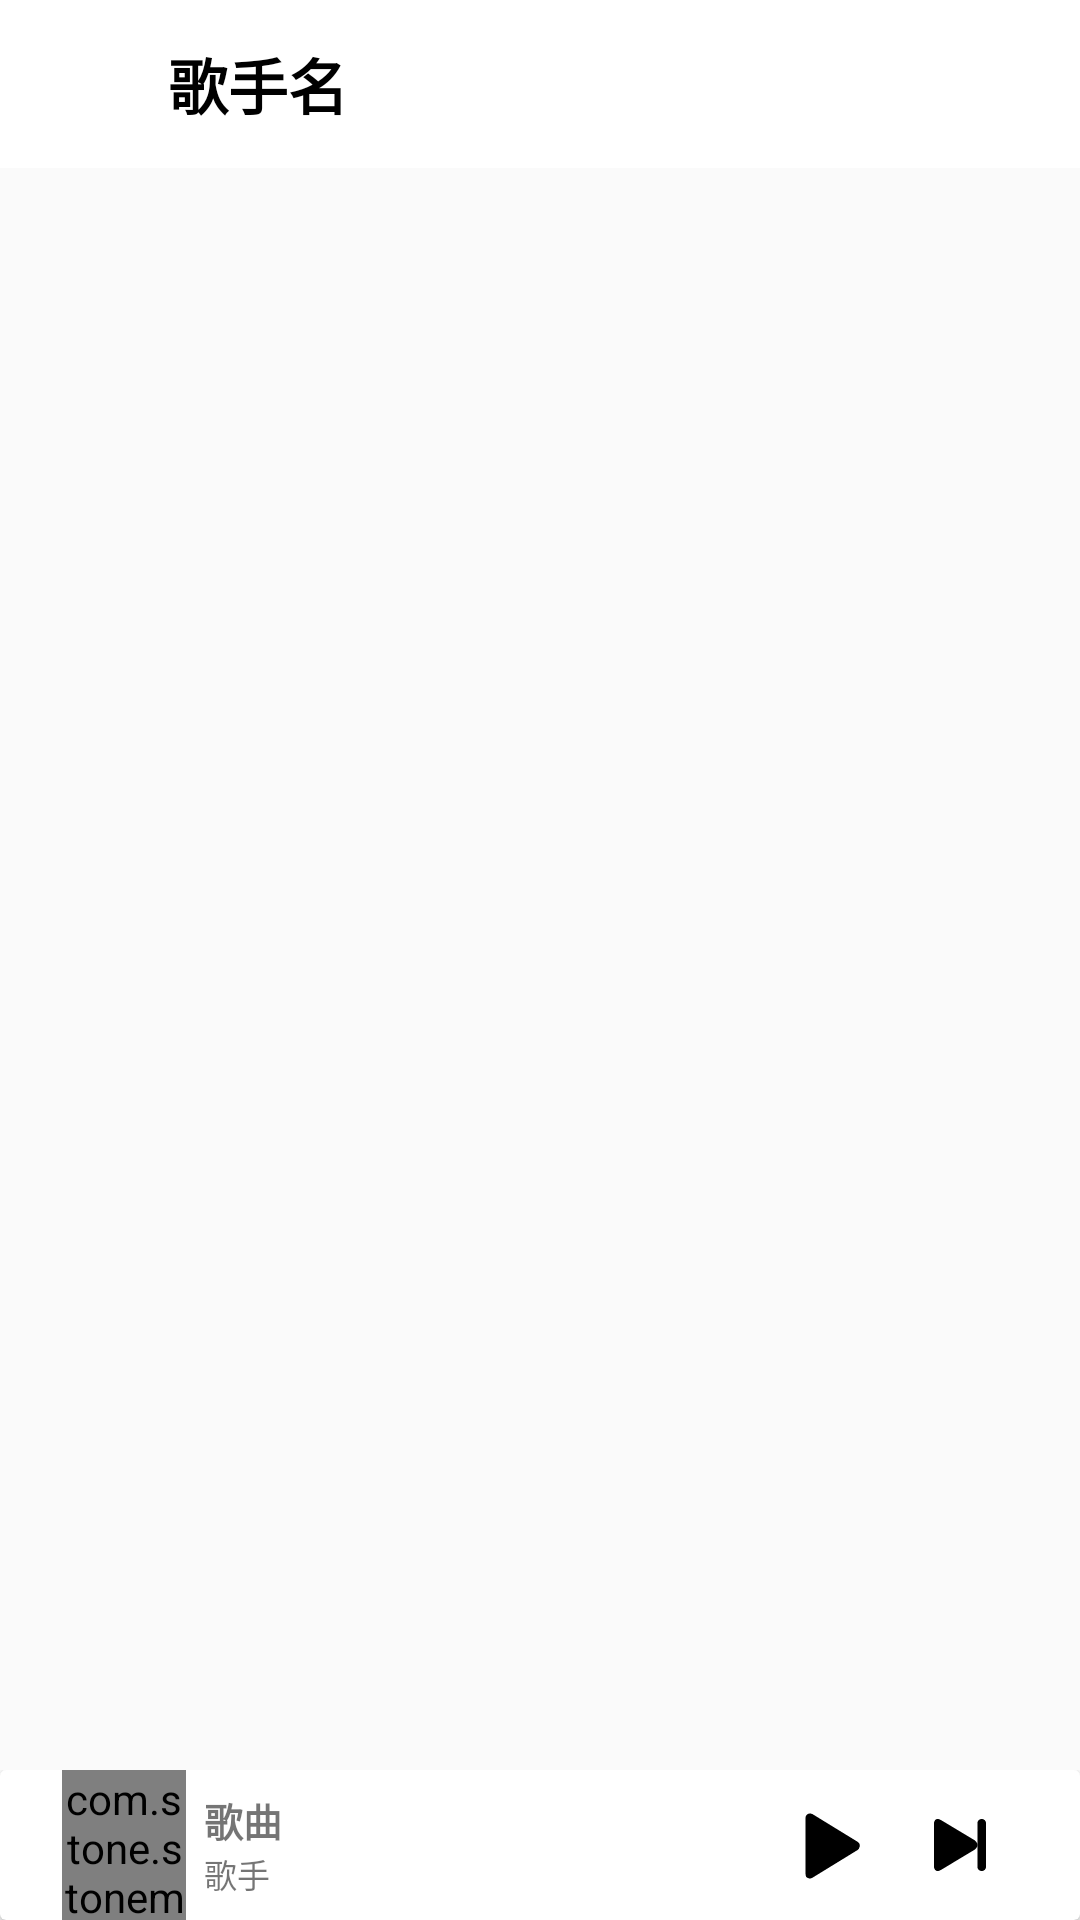

Where to tap for icons on this 1080 × 1920 app screen, as [x,y]:
next: [960,1845]
play: [832,1846]
